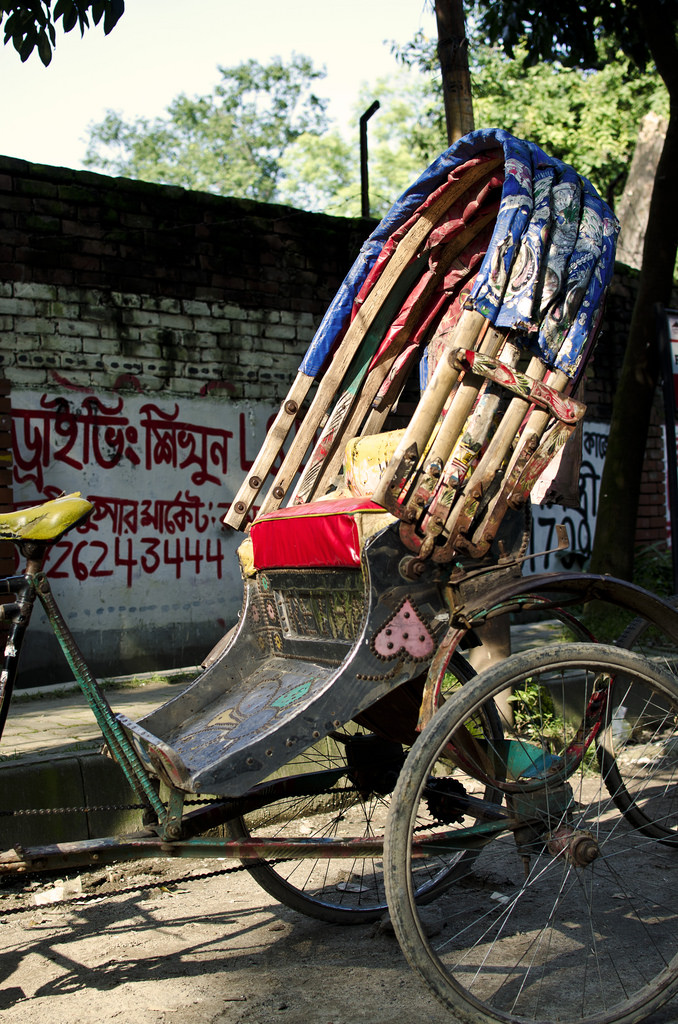Rickshaw: (8, 99, 674, 1023)
